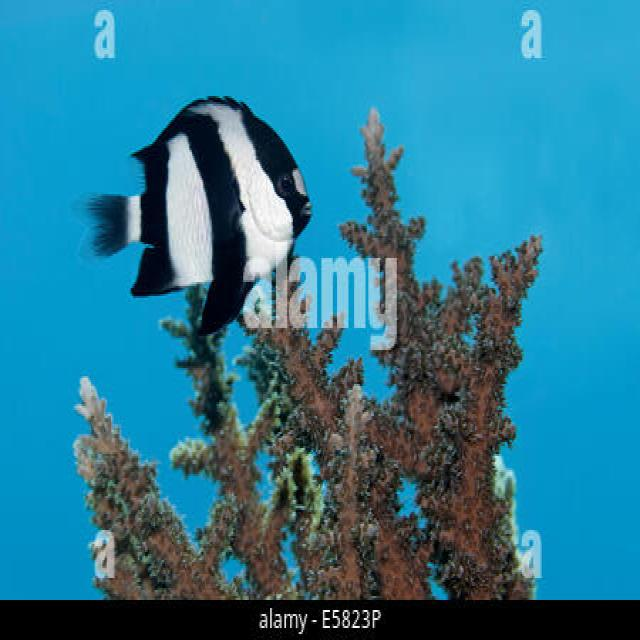ThreeStripedDamselfish: (89, 73, 315, 339)
